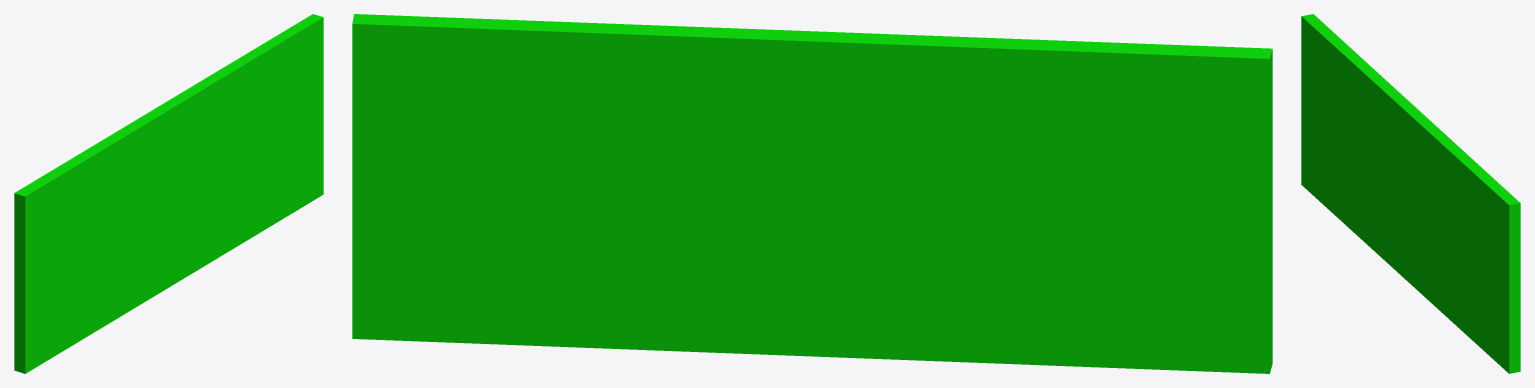
3 renders of one model, left to right at view 1: azimuth 30°, elevation 25°; view 2: azimuth 150°, elevation 25°; view 3: azimuth 270°, elevation 25°, orthographic. The views are drawn at different scales.
Visible parts, largest first — view 1: Plane.025; view 2: Plane.025; view 3: Plane.025.
Boxes of the visible parts, x1,y1,x2,y2 form: Plane.025: (14,14,323,373); Plane.025: (352,14,1272,373); Plane.025: (1301,14,1520,373).
Bounding box in the file's own units: 3784 × 1555 × 1832.
